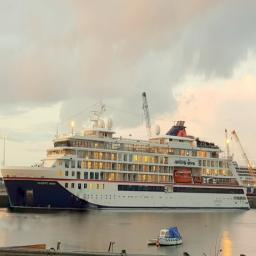cruises: (2, 101, 253, 214)
